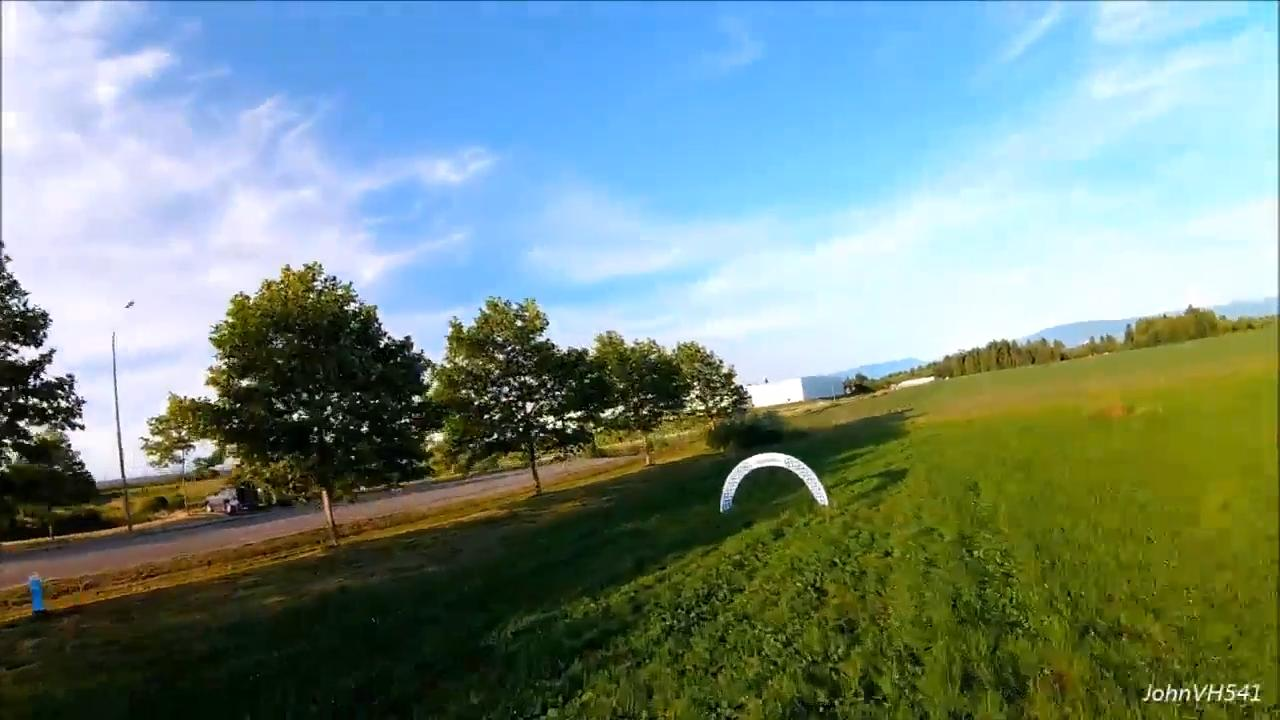gate: (716, 449, 830, 511)
